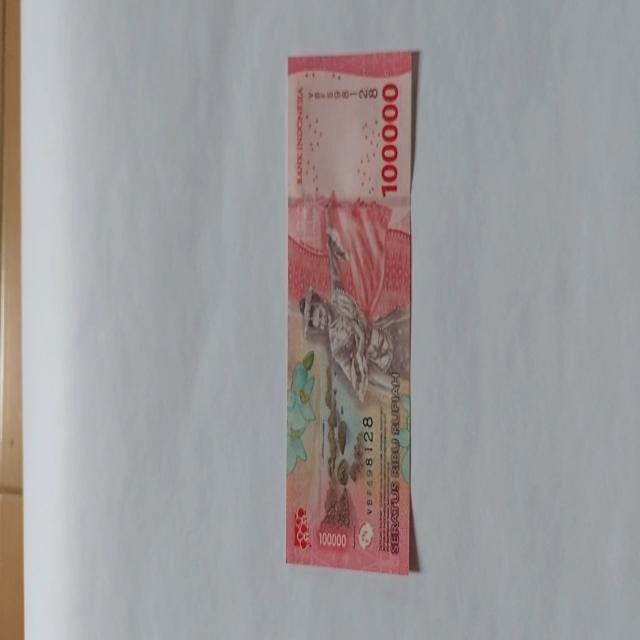seratus ribu rupiah: (286, 51, 416, 574)
